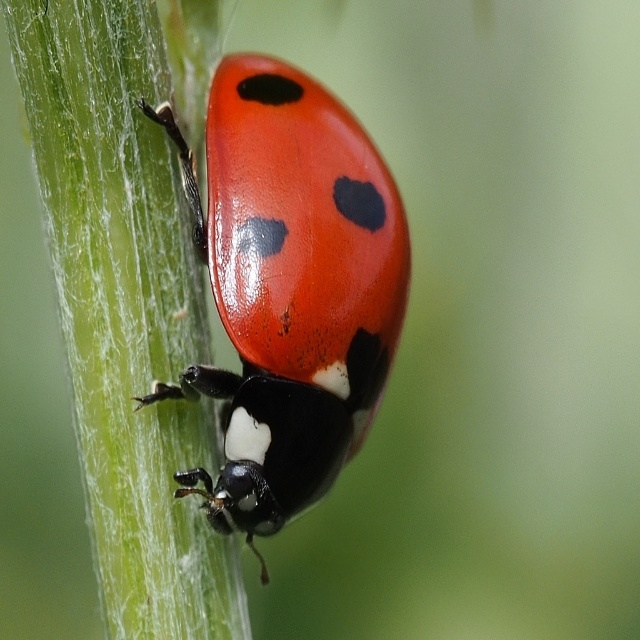Ladybug: (131, 52, 412, 581)
